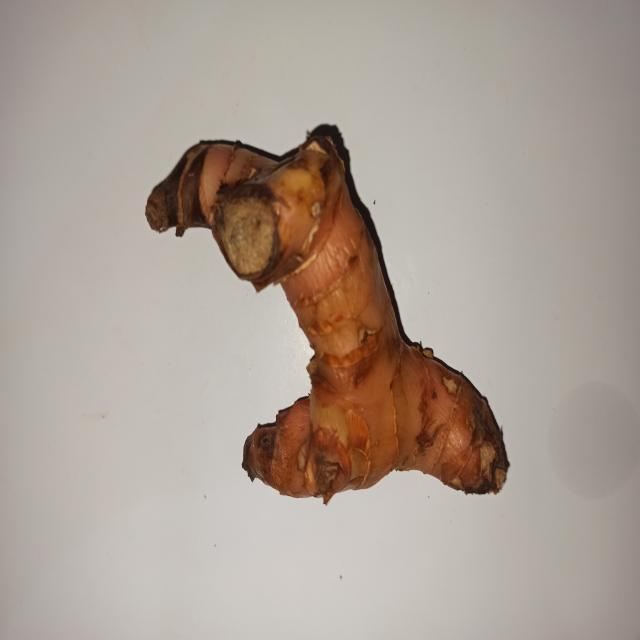ginger: (165, 131, 510, 539)
